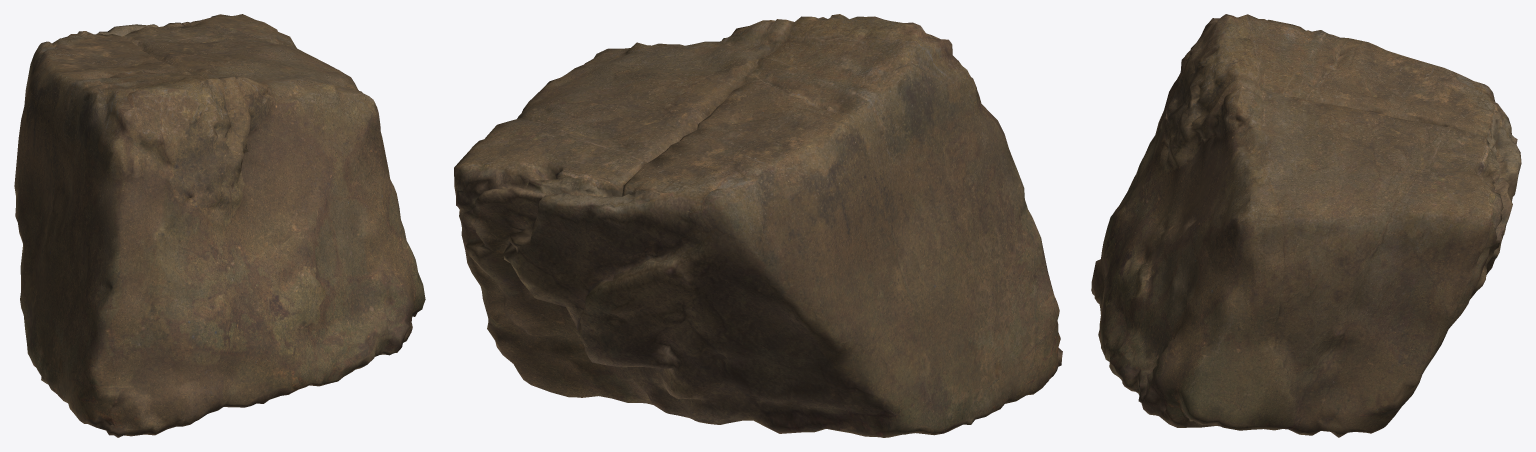
File: uftjejiga_tier_2.gltf
3 renders of one model, left to right at view 1: azimuth 30°, elevation 25°; view 2: azimuth 150°, elevation 25°; view 3: azimuth 270°, elevation 25°, orthographic. The views are drawn at different scales.
Visible parts, largest first — view 1: uftjejiga_LOD0_TIER2_000; view 2: uftjejiga_LOD0_TIER2_000; view 3: uftjejiga_LOD0_TIER2_000.
Part boxes in pixels (box(x1,y1,x2,y2)): uftjejiga_LOD0_TIER2_000: box(14, 14, 425, 437); uftjejiga_LOD0_TIER2_000: box(454, 14, 1062, 437); uftjejiga_LOD0_TIER2_000: box(1091, 14, 1521, 437).
Bounding box in the file's own units: 0.4537 × 0.3649 × 0.4682.
Materials: 1 (1 with a texture image).
